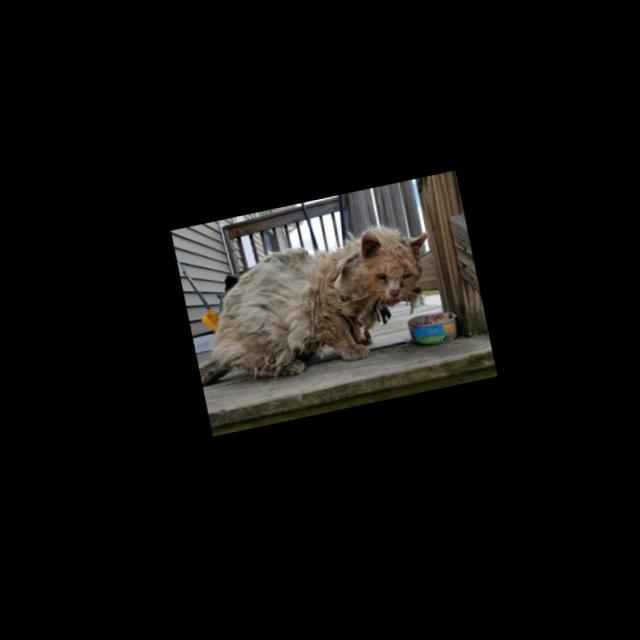animals: (175, 219, 449, 398)
